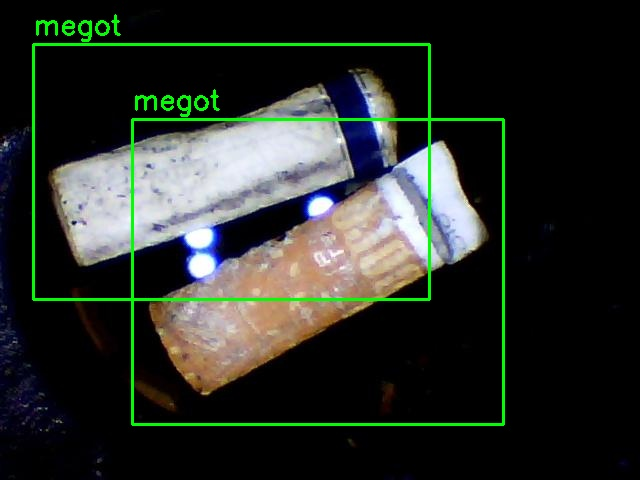megot: (132, 119, 503, 424), (33, 44, 429, 299)
